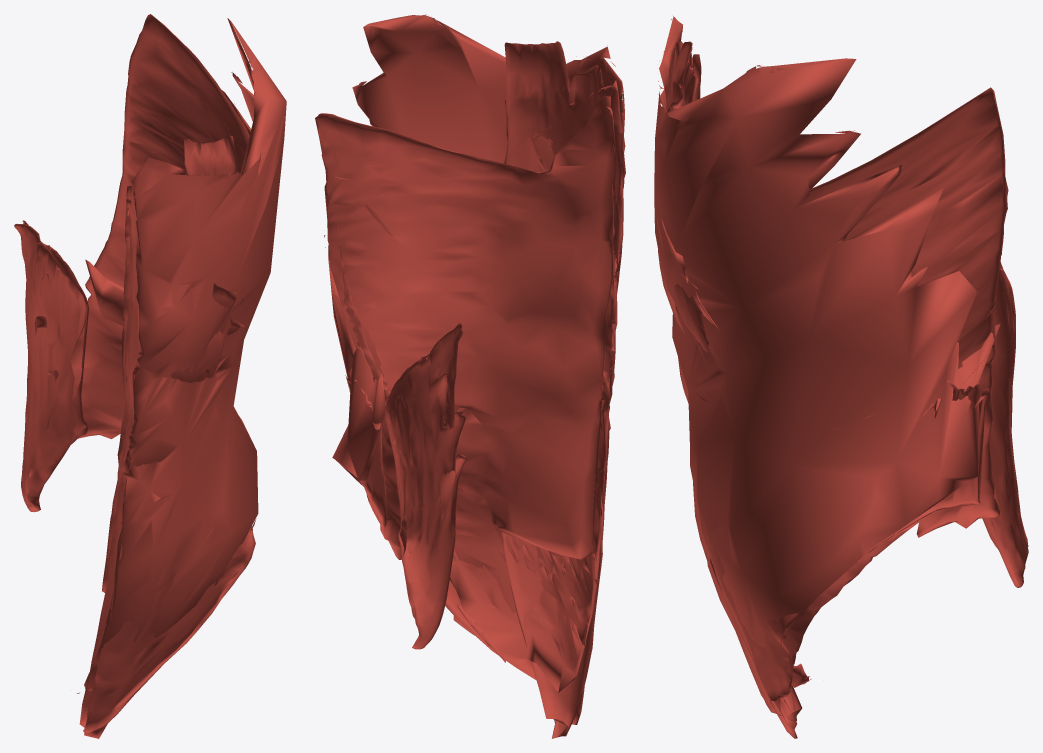
The model's file is abdm.glb.
3 renders of one model, left to right at view 1: azimuth 30°, elevation 25°; view 2: azimuth 150°, elevation 25°; view 3: azimuth 270°, elevation 25°, orthographic. The views are drawn at different scales.
Visible parts, largest first — view 1: left external oblique, left transversus abdominis, left quadratus lumborum, left internal oblique, left rectus abdominis; view 2: left transversus abdominis, left external oblique, left quadratus lumborum, left rectus abdominis, left internal oblique; view 3: left external oblique, left transversus abdominis, left internal oblique, left quadratus lumborum, left rectus abdominis.
Part boxes in pixels (x1=…): left external oblique: x1=77, y1=18, x2=286, y2=693; left transversus abdominis: x1=70, y1=14, x2=249, y2=738; left quadratus lumborum: x1=14, y1=220, x2=88, y2=511; left internal oblique: x1=83, y1=197, x2=255, y2=733; left rectus abdominis: x1=79, y1=135, x2=238, y2=727; left transversus abdominis: x1=315, y1=95, x2=614, y2=738; left external oblique: x1=324, y1=14, x2=624, y2=706; left quadratus lumborum: x1=384, y1=323, x2=467, y2=649; left rectus abdominis: x1=500, y1=41, x2=621, y2=726; left internal oblique: x1=345, y1=80, x2=625, y2=724; left external oblique: x1=654, y1=16, x2=1000, y2=687; left transversus abdominis: x1=692, y1=54, x2=1008, y2=738; left internal oblique: x1=655, y1=67, x2=989, y2=715; left quadratus lumborum: x1=982, y1=262, x2=1028, y2=587; left rectus abdominis: x1=662, y1=41, x2=802, y2=721.
Size of the model in its own units: 0.1365 by 0.445 by 0.1965.
